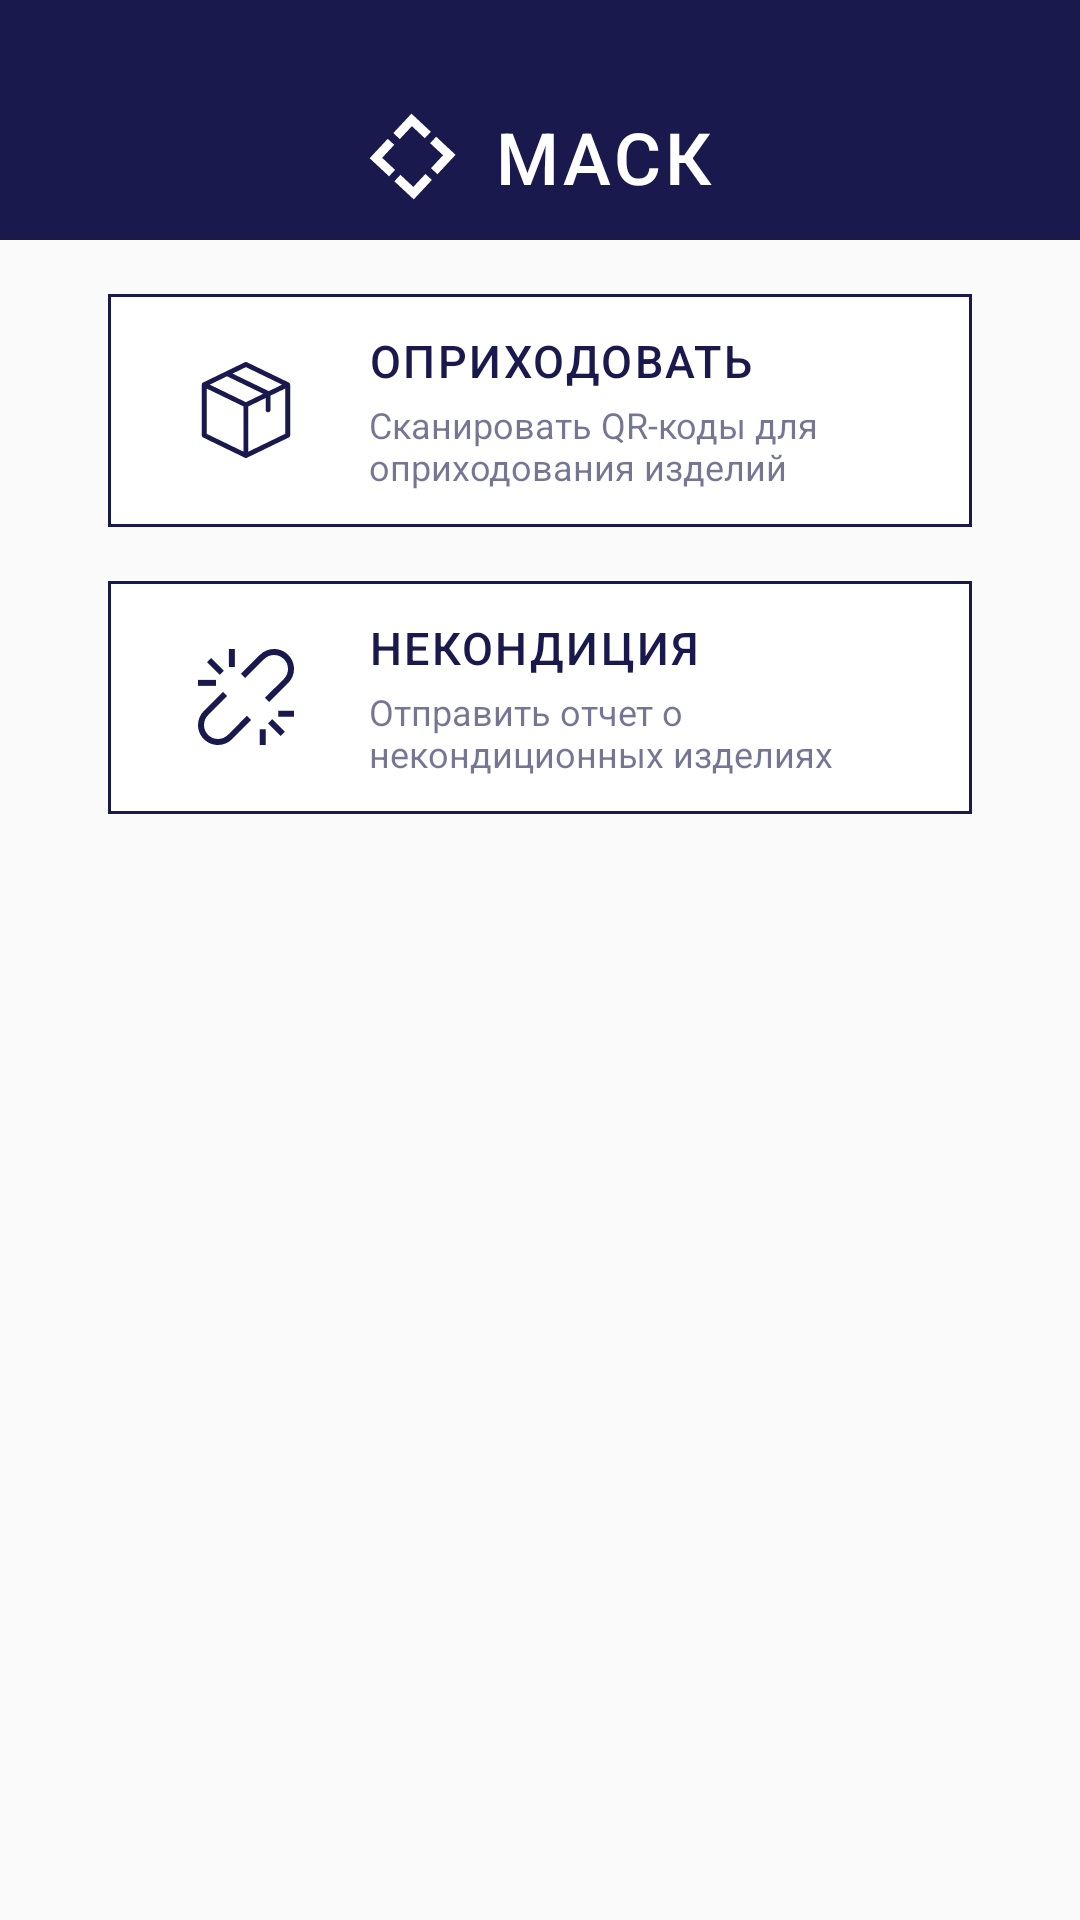

Icon bounding boxes for this 1080w x 1920h phone screenshot, format rect(x1, y1, x2, y2):
box home: rect(201, 362, 291, 458)
breach: rect(198, 649, 294, 745)
